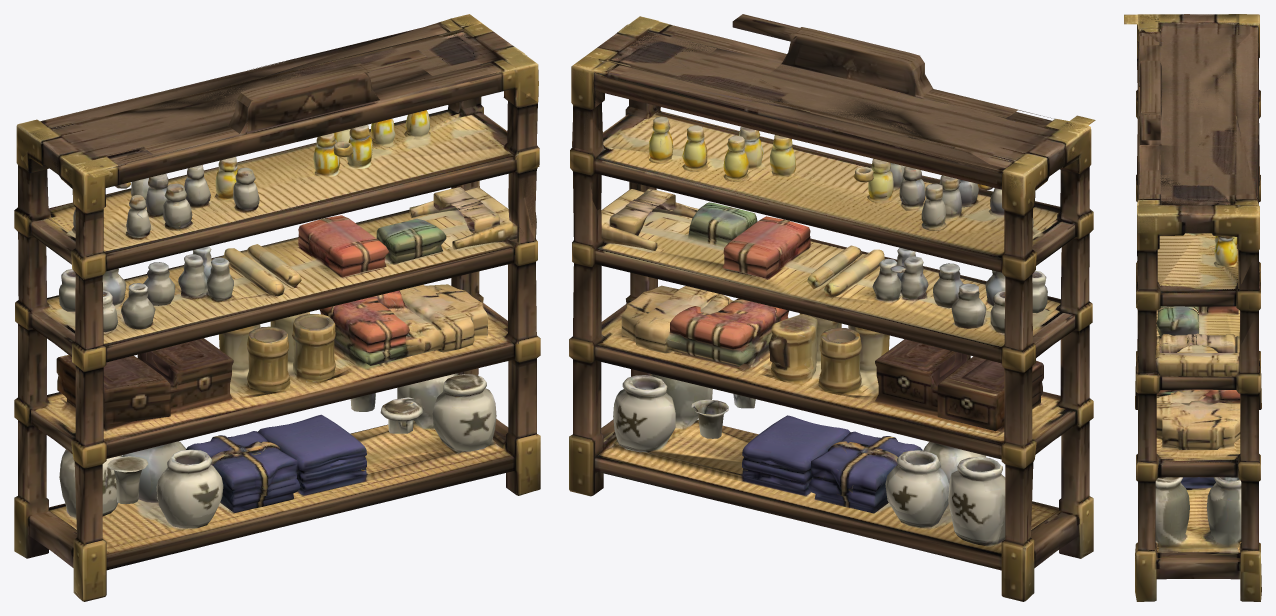
The model's file is Alchemist_s_Shelf.glb.
3 renders of one model, left to right at view 1: azimuth 30°, elevation 25°; view 2: azimuth 150°, elevation 25°; view 3: azimuth 270°, elevation 25°, orthographic. The views are drawn at different scales.
Size of the model in its own units: 1.91 by 1.82 by 0.548.
Materials: 1 (1 with a texture image).
